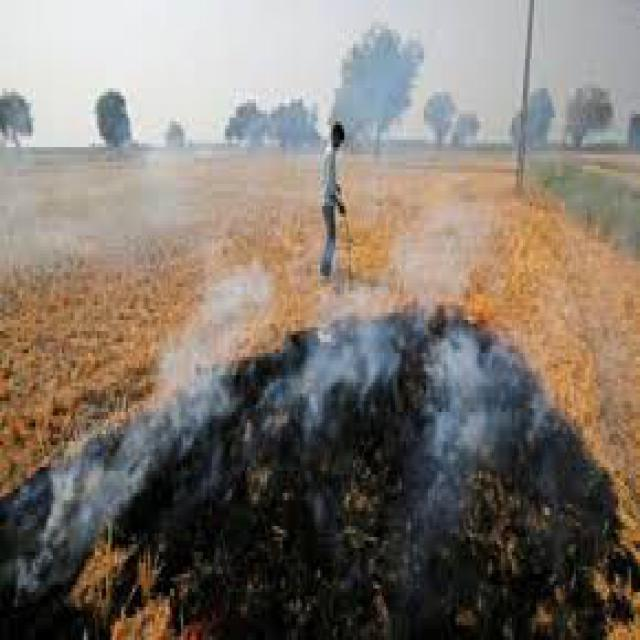smoke: (134, 246, 292, 394)
